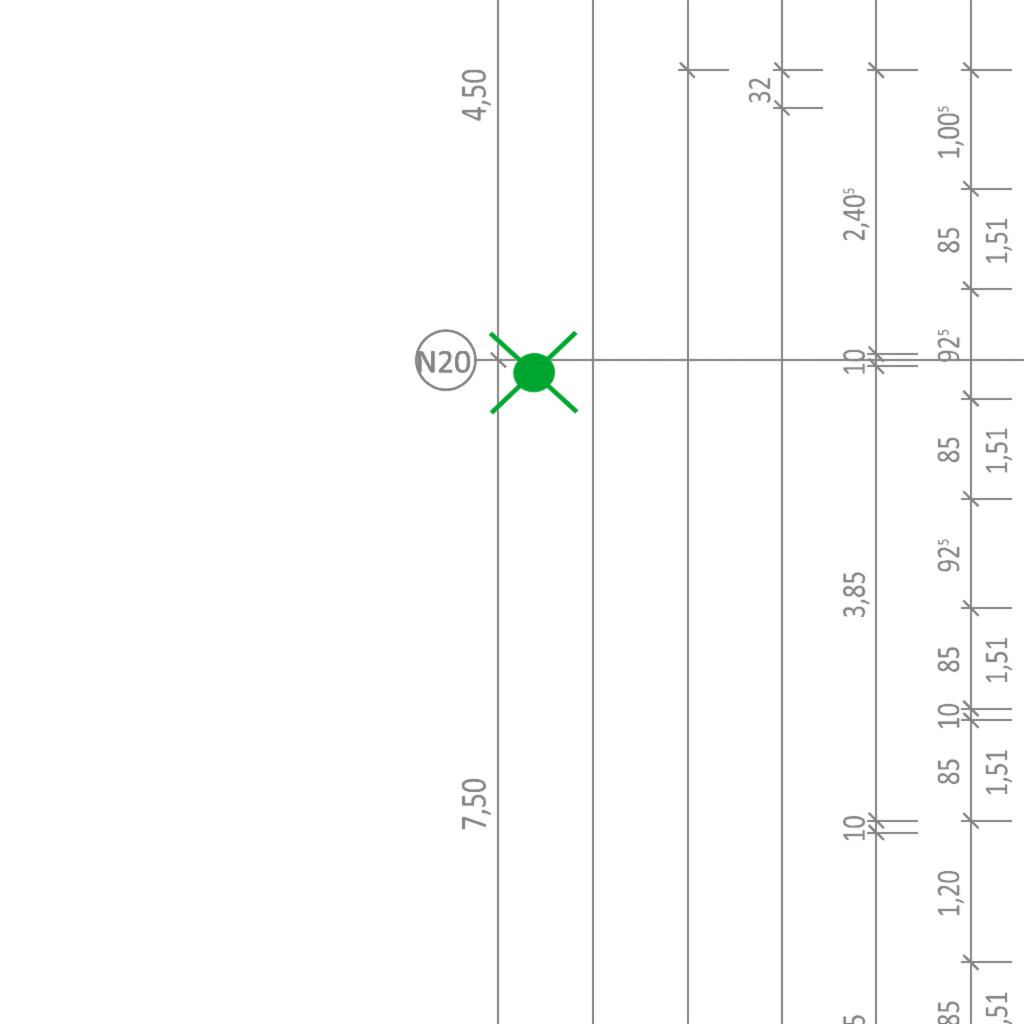Notlichtbaustein_in_Allgemeinbeleuchtug_engebaut_Einbau_(1UG_und_2UG_Aufbauvaria: (484, 320, 584, 423)
